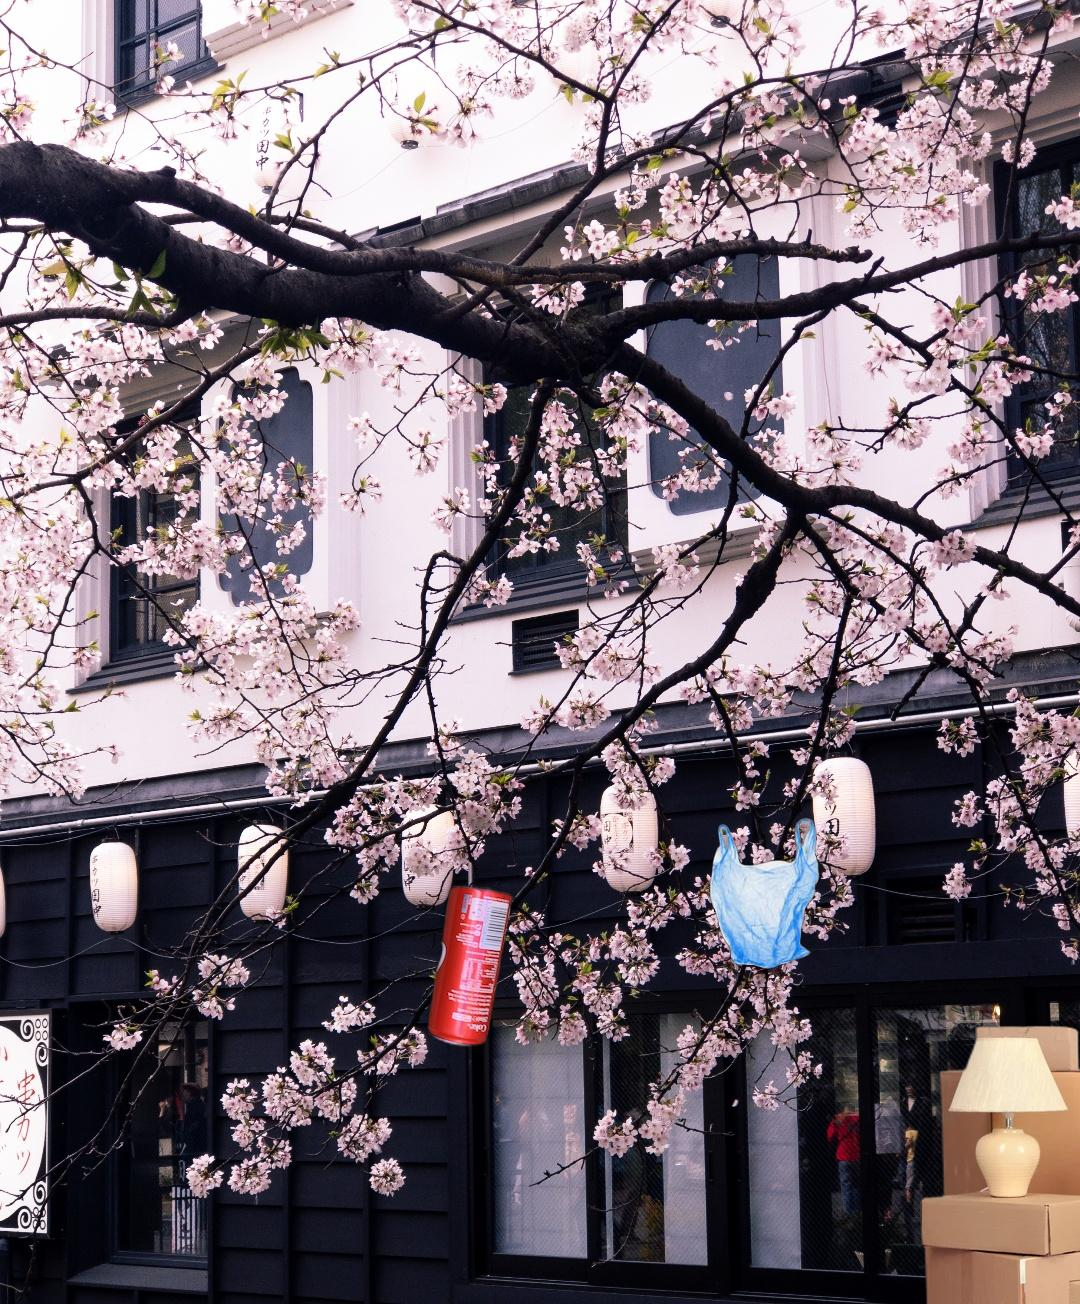metal-cans: (422, 881, 519, 1052)
plastic-bag: (707, 816, 821, 970)
trashbox-cardboard: (915, 1021, 1080, 1304)
